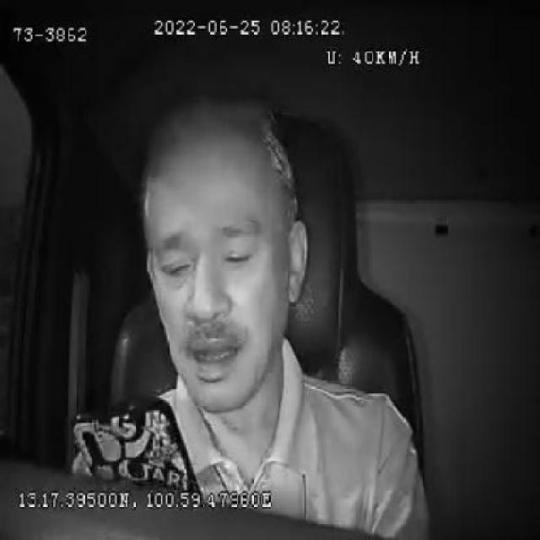phone: (72, 399, 202, 493)
